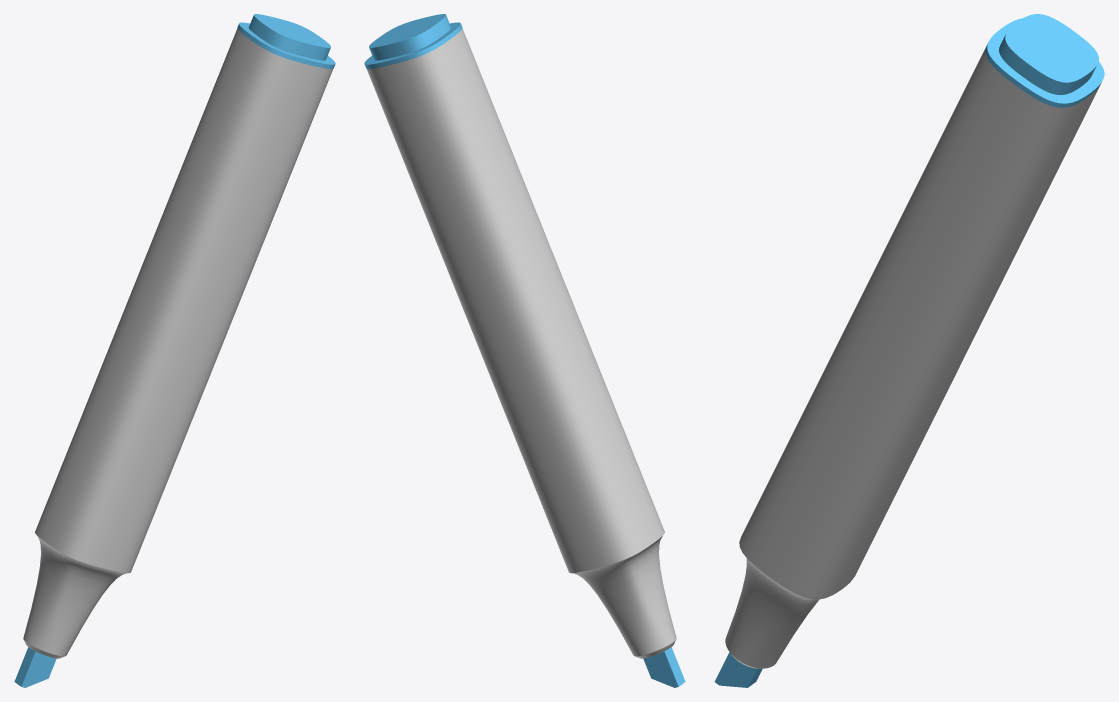
The model's file is Marker - Blue.dae.
The picture shows the model from 3 angles, left to right: view 1: azimuth 30°, elevation 25°; view 2: azimuth 150°, elevation 25°; view 3: azimuth 330°, elevation 25°; orthographic projection. The views are drawn at different scales.
Visible parts, largest first — view 1: a996f227-9351-4e8a-a4af-3f839300d6fe, aacad1af-450f-4057-b113-c2fc3f6a7b28, a7147814-c681-48ec-a8c6-e2975e3c664d; view 2: a996f227-9351-4e8a-a4af-3f839300d6fe, aacad1af-450f-4057-b113-c2fc3f6a7b28, a7147814-c681-48ec-a8c6-e2975e3c664d; view 3: a996f227-9351-4e8a-a4af-3f839300d6fe, aacad1af-450f-4057-b113-c2fc3f6a7b28, a7147814-c681-48ec-a8c6-e2975e3c664d.
Part boxes in pixels (x1,y1,x2,y2): a996f227-9351-4e8a-a4af-3f839300d6fe: (23, 29, 332, 658); aacad1af-450f-4057-b113-c2fc3f6a7b28: (237, 14, 335, 68); a7147814-c681-48ec-a8c6-e2975e3c664d: (14, 647, 56, 687); a996f227-9351-4e8a-a4af-3f839300d6fe: (367, 29, 676, 658); aacad1af-450f-4057-b113-c2fc3f6a7b28: (364, 14, 462, 68); a7147814-c681-48ec-a8c6-e2975e3c664d: (643, 647, 685, 687); a996f227-9351-4e8a-a4af-3f839300d6fe: (725, 48, 1099, 668); aacad1af-450f-4057-b113-c2fc3f6a7b28: (985, 14, 1104, 107); a7147814-c681-48ec-a8c6-e2975e3c664d: (714, 652, 762, 687).
Bounding box in the file's own units: 75.97 × 20 × 143.
